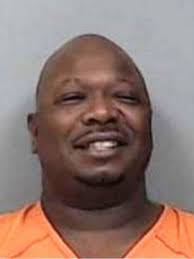no-mask: (35, 31, 153, 191)
